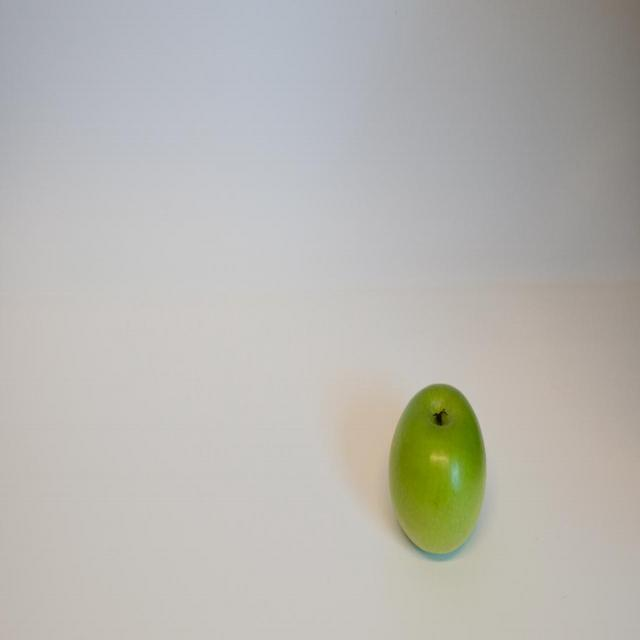apple: (385, 371, 486, 552)
